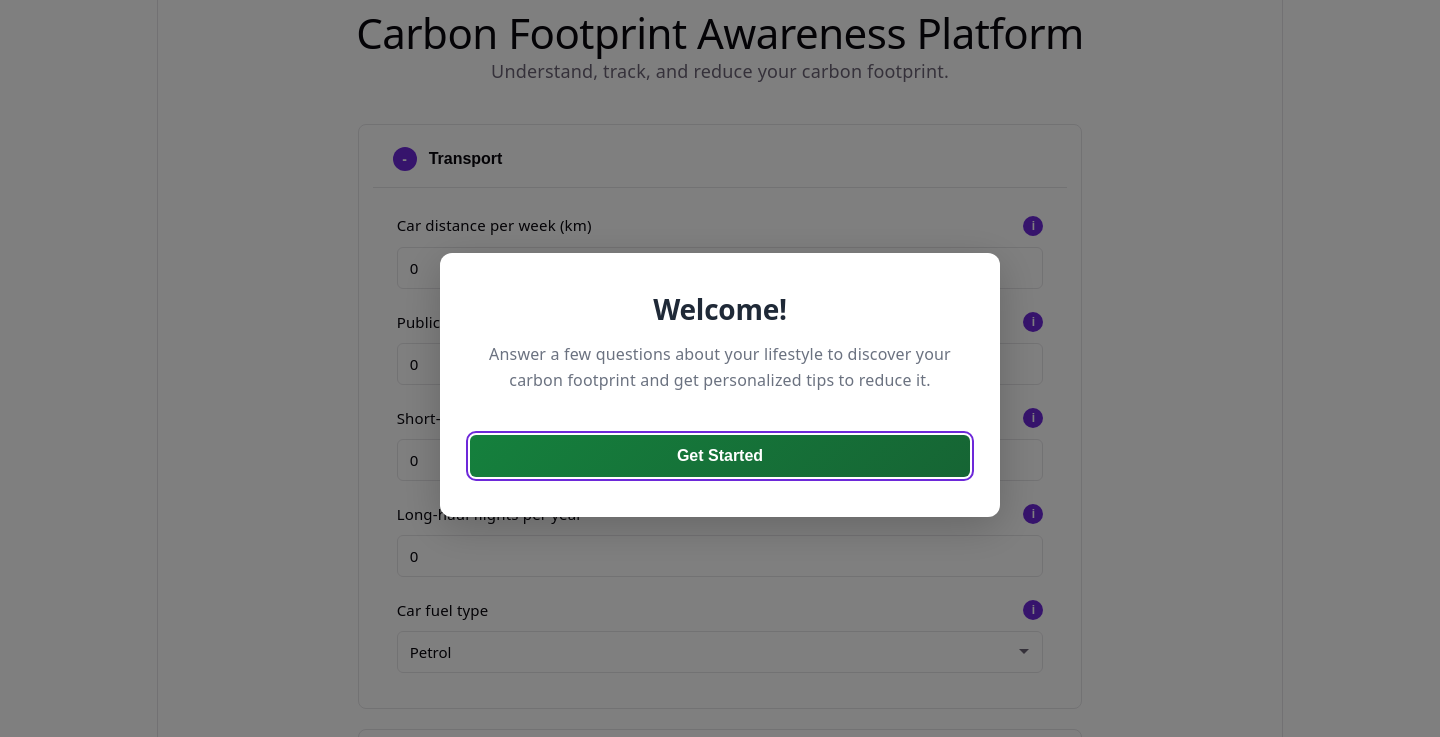
it: App behavior coverage › shows an error when sharing fails
Click the button "Get Started" at (720, 456), box [470, 435, 970, 477]
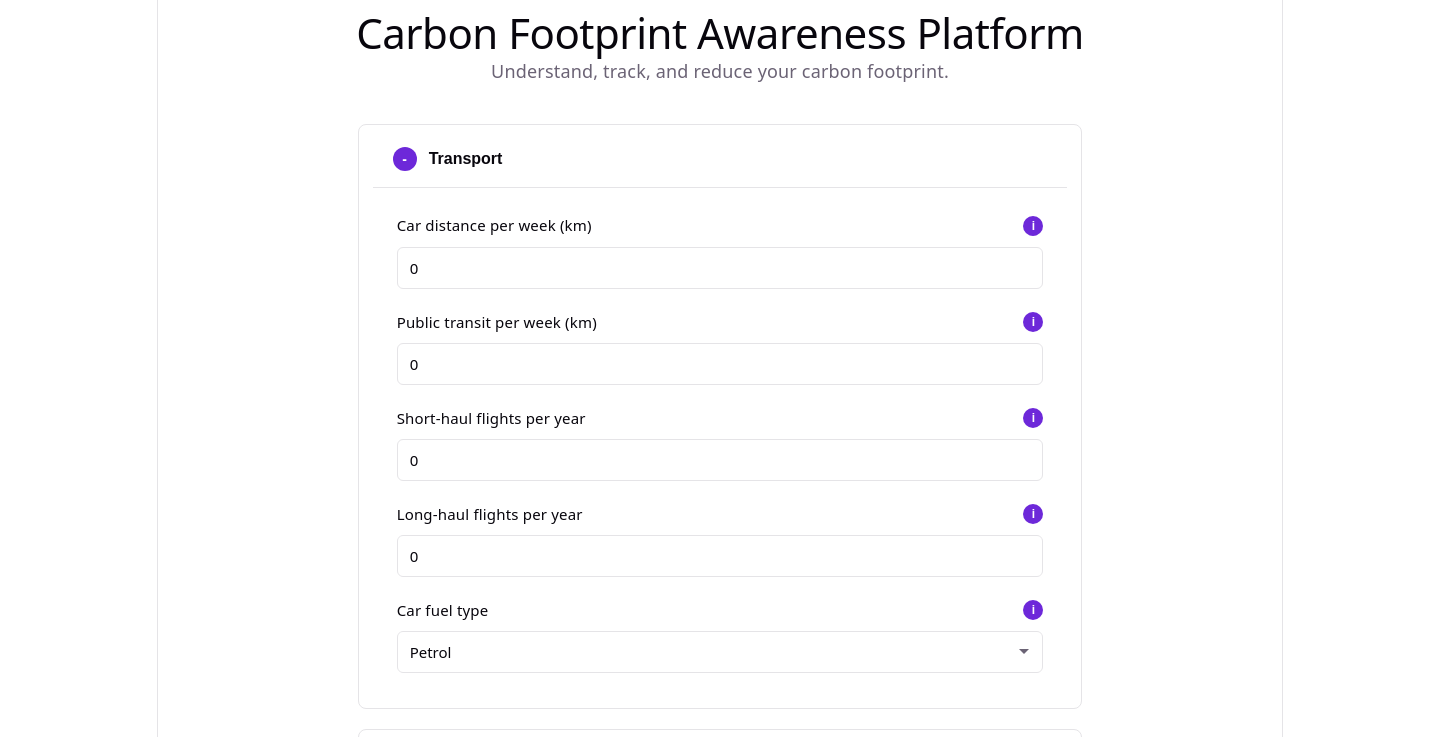
Replace the text in the number field labelled "Car distance per week (km)" with "50" at (720, 268), box [397, 247, 1043, 289]
(page scrolled)
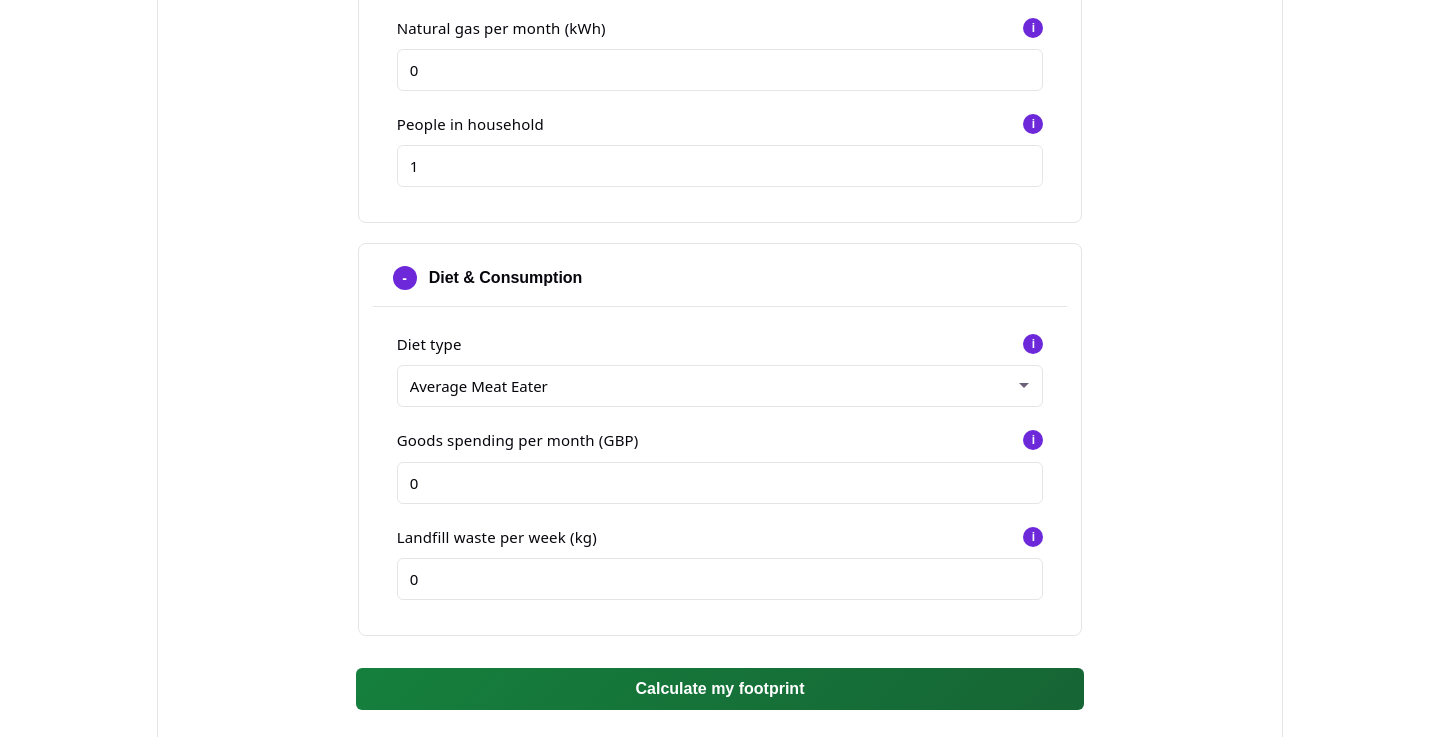
Click the button with aria-label "Calculate my carbon footprint" at (720, 689), box [356, 668, 1084, 710]
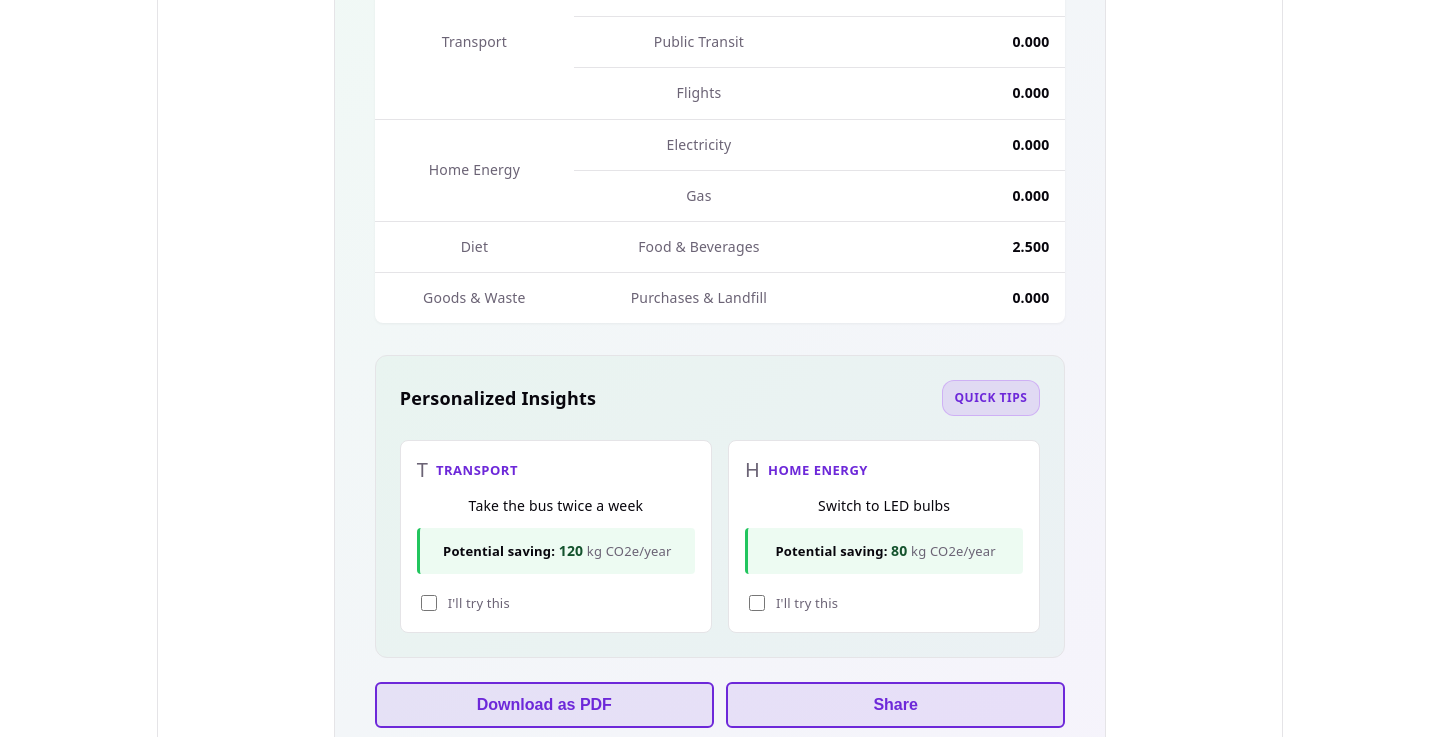
Click the button with aria-label "Share carbon footprint result" at (896, 705), box [726, 682, 1065, 728]
(page scrolled)
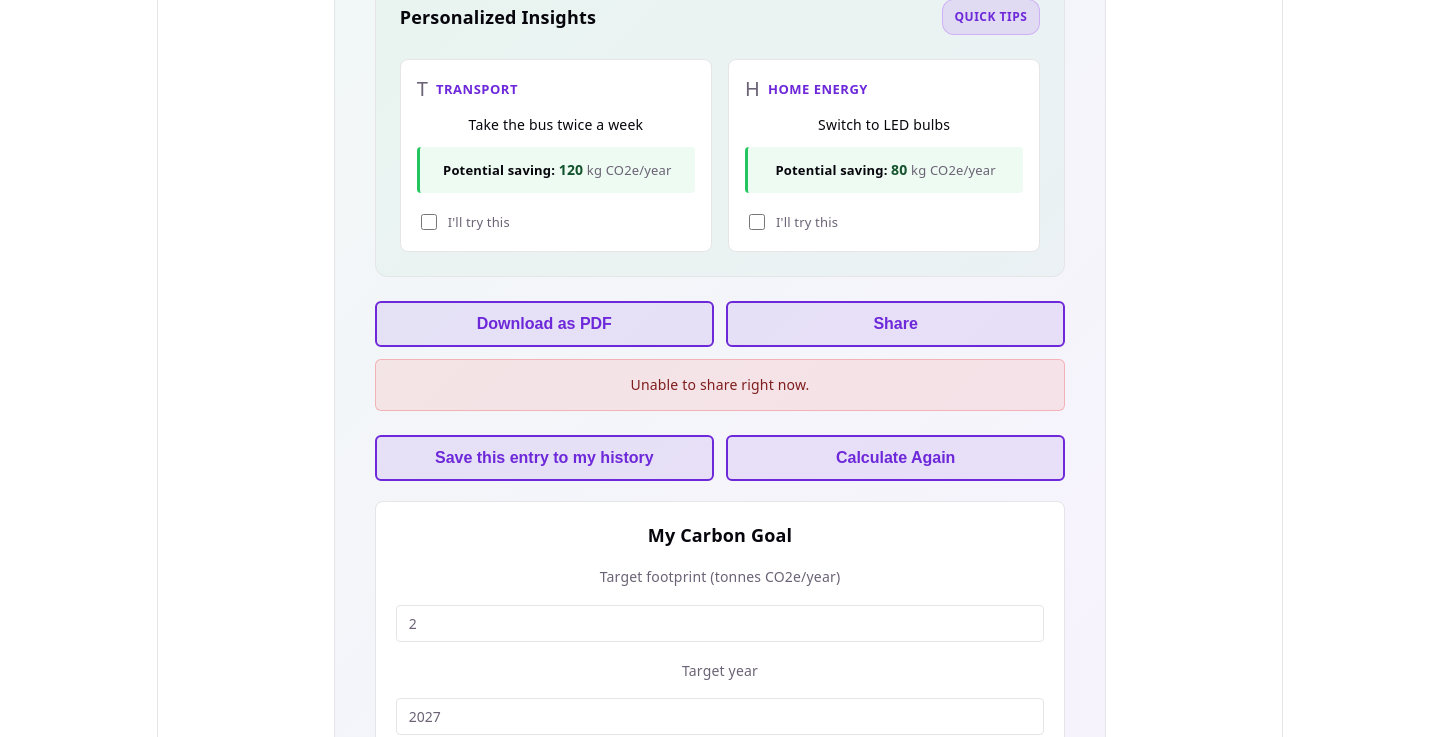
Check: the text "Unable to share right now." is shown, box [375, 359, 1065, 411]
